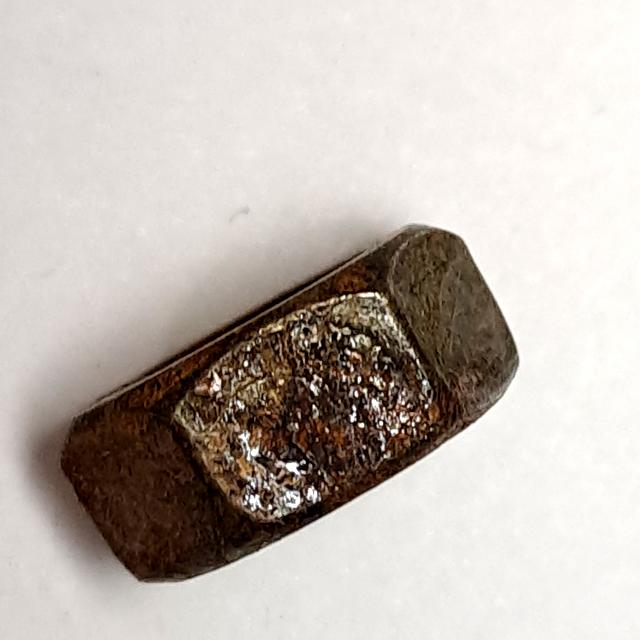Side_Rust: (53, 214, 530, 591)
